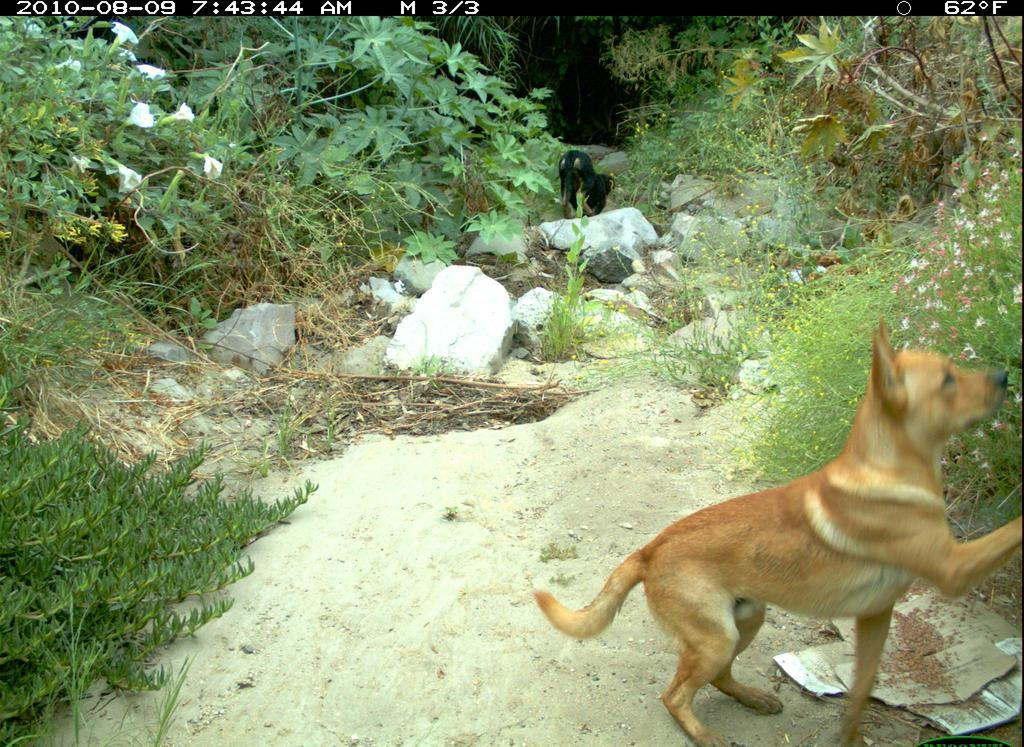dog: (532, 318, 1023, 747), (537, 144, 630, 219)
